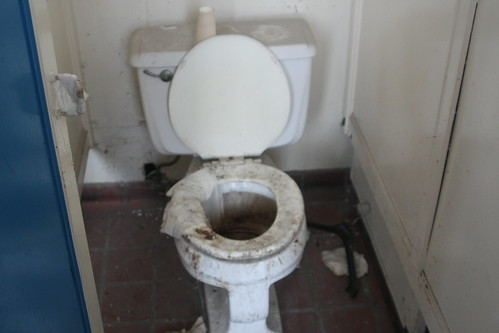toilet: (146, 112, 350, 333)
